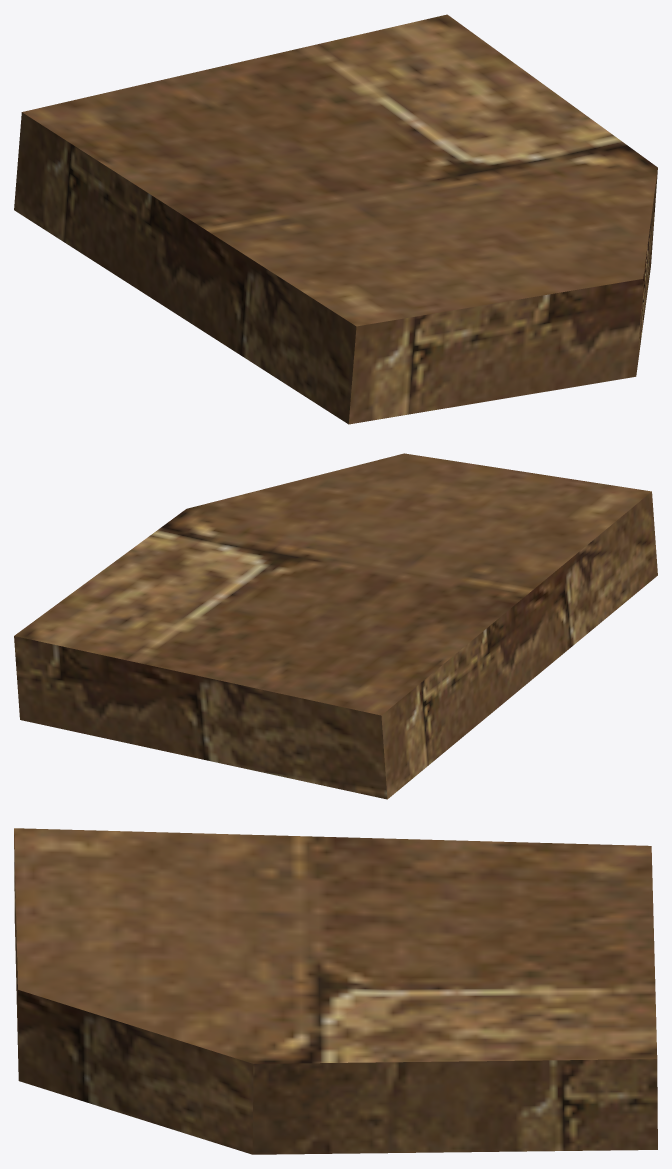
File: Scene_suishi_007.FBX
3 renders of one model, top to bottom at view 1: azimuth 30°, elevation 25°; view 2: azimuth 150°, elevation 25°; view 3: azimuth 270°, elevation 25°, orthographic. The views are drawn at different scales.
Parts seen in each view (by area): view 1: Scene_suishi_007; view 2: Scene_suishi_007; view 3: Scene_suishi_007.
Boxes of the visible parts, bbox=[...] form: Scene_suishi_007: bbox=[14, 14, 657, 424]; Scene_suishi_007: bbox=[14, 453, 657, 799]; Scene_suishi_007: bbox=[14, 828, 657, 1154].
Bounding box in the file's own units: 2.07 × 0.5868 × 2.68.
